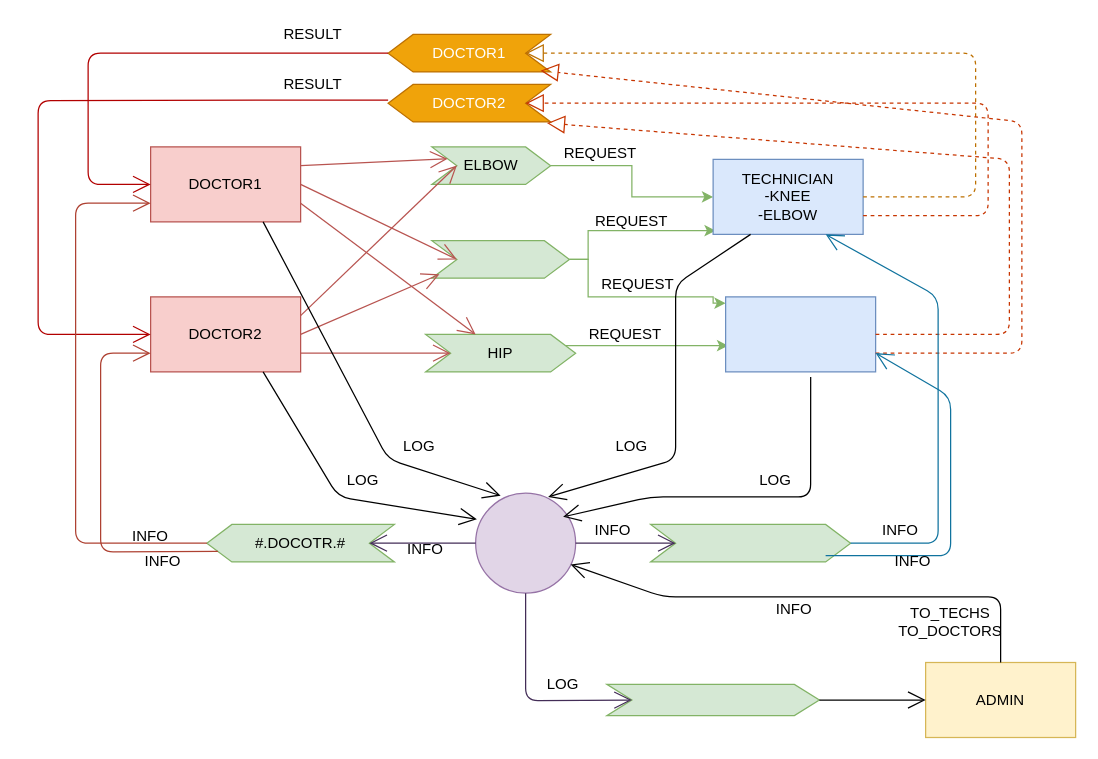
Image size: 1098x759. Some labels were removed from this diagram. The centre of each missing label's shape, as x and y in pixels:
"#.TECHNICIAN.#" belongs at [750,542].
"EXCHANGE" belongs at [525,542].
"KNEE" belongs at [500,258].
"TECHNICIAN -KNEE -HIP" belongs at [800,334].
"TO_ADMIN" belongs at [712,699].
